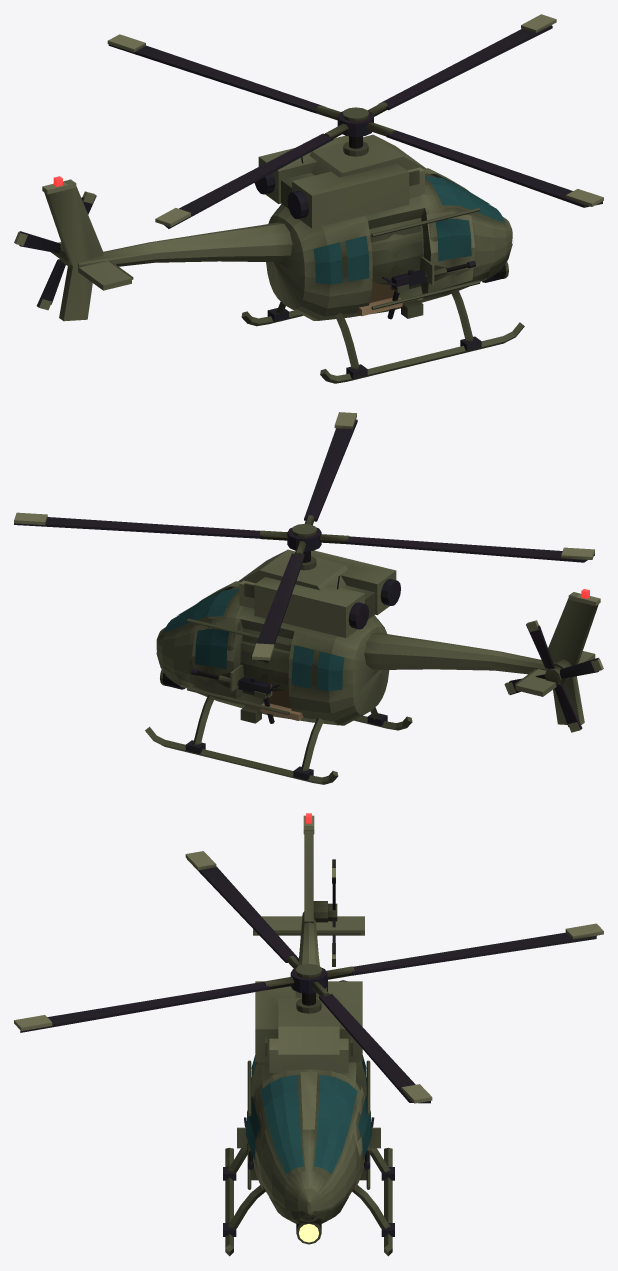
Rendered from veh.helicopter-military.lod1.glb.
3 renders of one model, top to bottom at view 1: azimuth 30°, elevation 25°; view 2: azimuth 150°, elevation 25°; view 3: azimuth 270°, elevation 25°, orthographic. The views are drawn at different scales.
Visible parts, largest first — view 1: body, mainRotor, tailRotor, doorGunR; view 2: body, mainRotor, tailRotor, doorGun; view 3: body, mainRotor.
Part boxes in pixels (x1,y1,x2,y2): body: (42,134,524,383); mainRotor: (107,14,603,228); tailRotor: (14,191,96,310); doorGunR: (382,256,475,292); body: (145,549,600,784); mainRotor: (14,412,594,662); tailRotor: (504,620,603,732); doorGun: (191,664,279,698); body: (223,815,394,1256); mainRotor: (14,851,603,1103).
Bounding box in the file's own units: 11.11 × 4.31 × 9.66.
